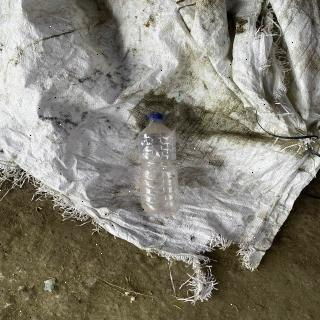Plastic-bottle: (136, 112, 183, 219)
